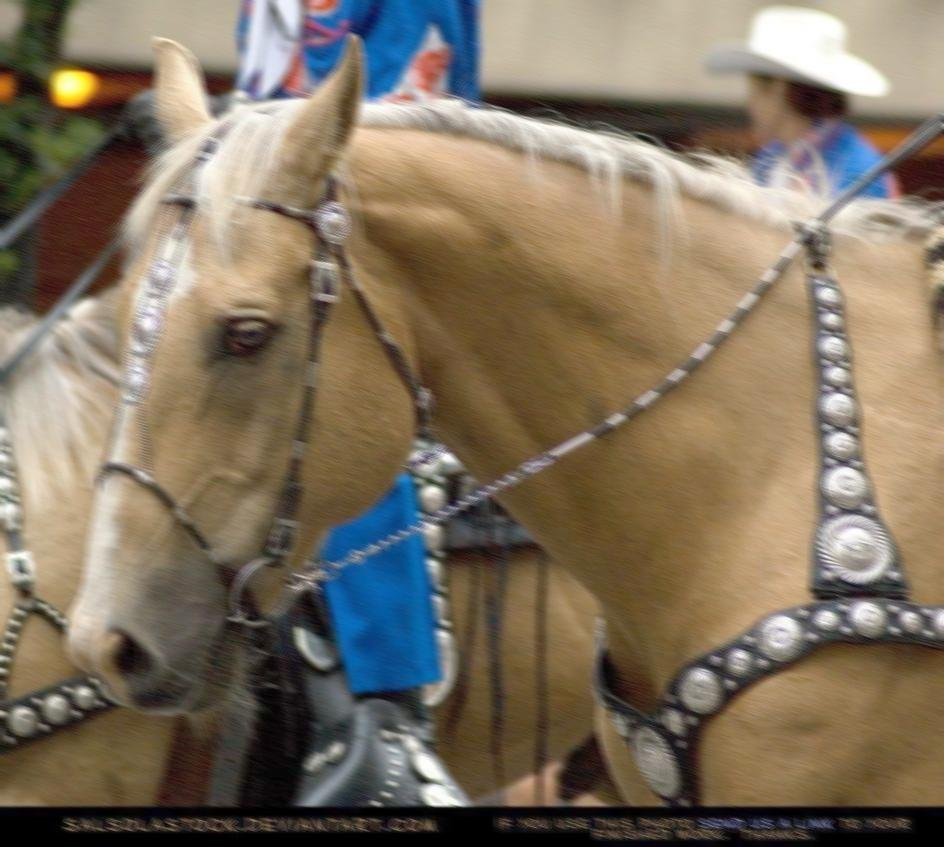horse: (61, 30, 944, 807)
